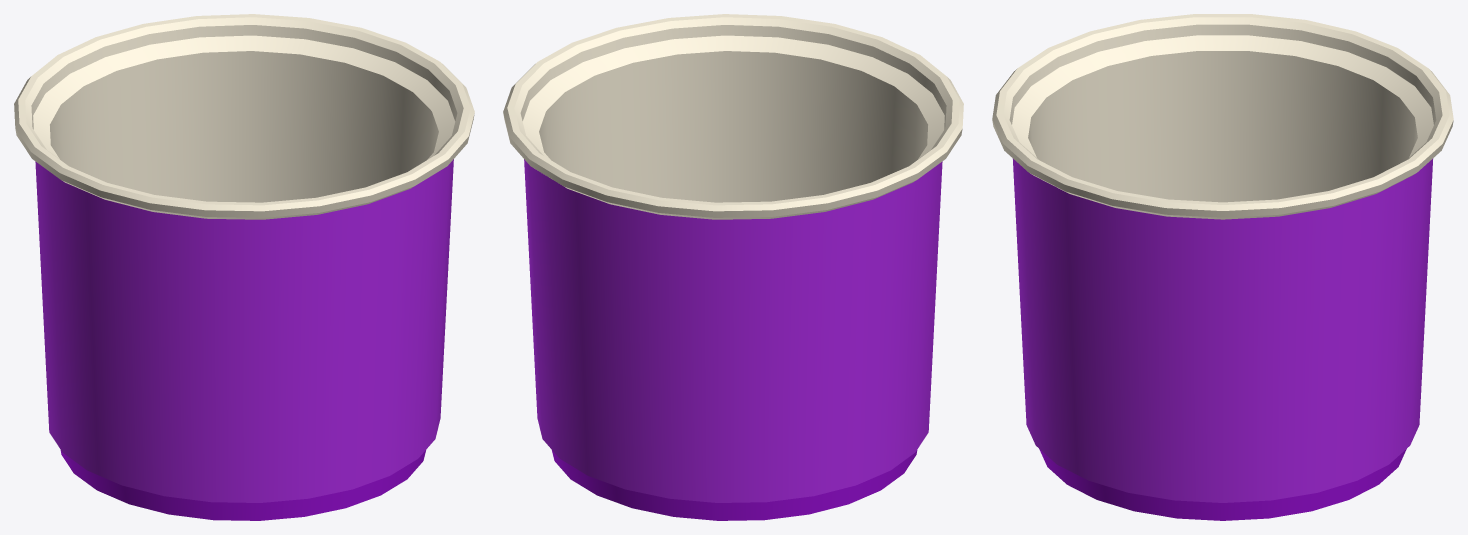
Rendered from Cup L Purple.fbx.
3 renders of one model, left to right at view 1: azimuth 30°, elevation 25°; view 2: azimuth 150°, elevation 25°; view 3: azimuth 270°, elevation 25°, orthographic.
Parts seen in each view (by area): view 1: Cup L Purple; view 2: Cup L Purple; view 3: Cup L Purple.
Part boxes in pixels (<box>): Cup L Purple: <box>14,14,474,520</box>; Cup L Purple: <box>503,14,963,520</box>; Cup L Purple: <box>992,14,1453,520</box>.
Bounding box in the file's own units: 0.8493 × 0.679 × 0.851.
